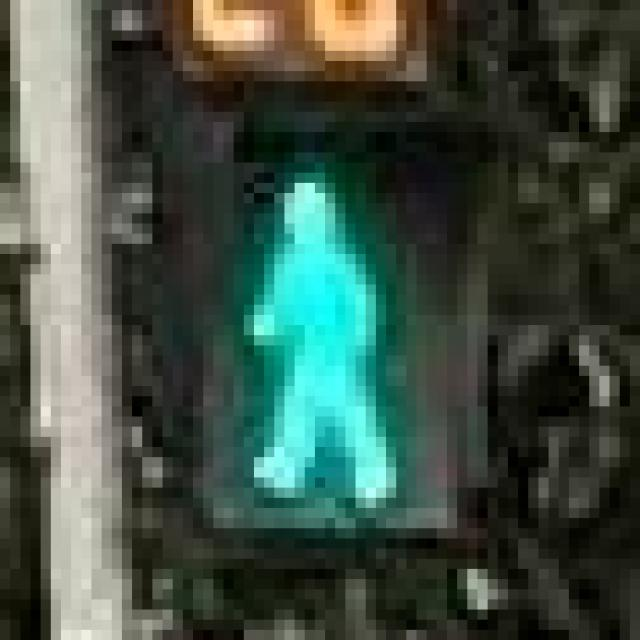green_light: (163, 92, 457, 518)
